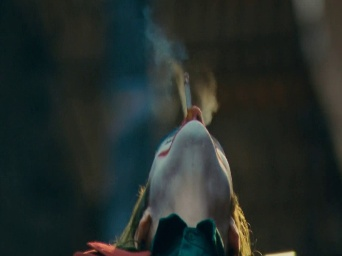smoke: (185, 72, 195, 120)
